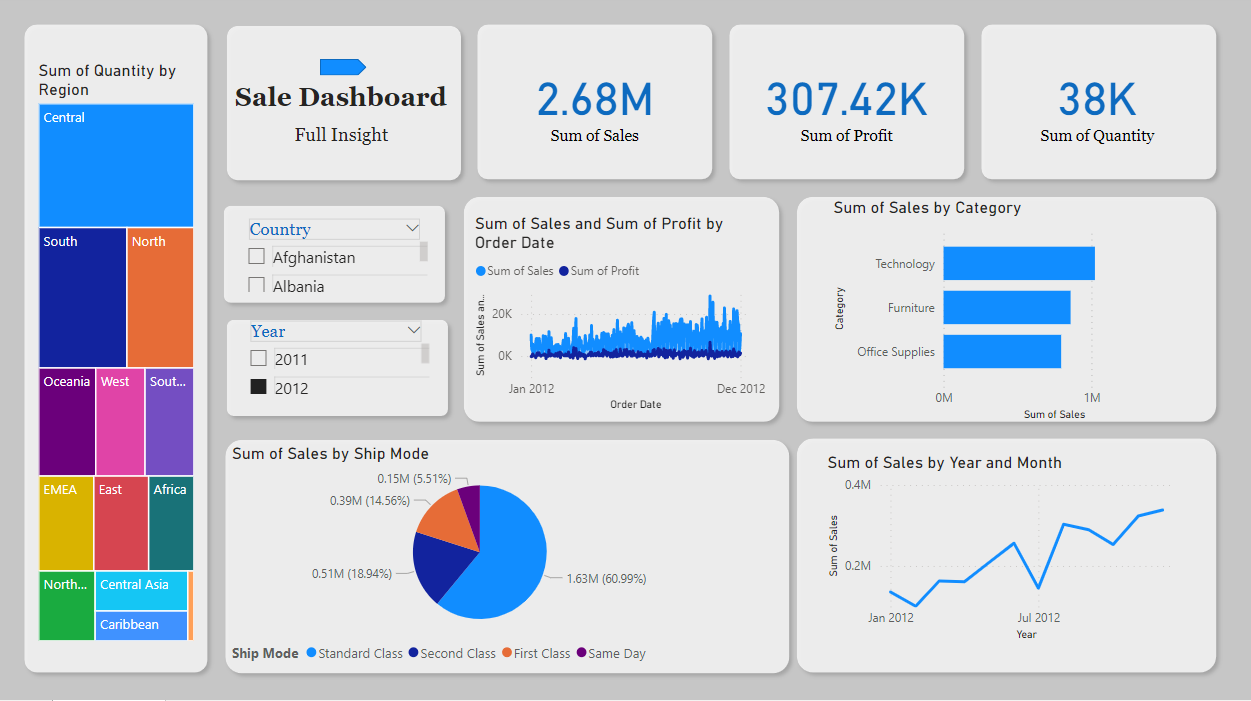

The page's visual inventory and layout, read from the dashboard file:
{"tool":"powerbi","page":{"name":"Page 1","canvas":[1280,720],"ordinal":0},"visuals":[{"type":"shape","box":[16.8,22.9,204.8,678.7],"z":0},{"type":"shape","box":[222.6,24.5,256.6,175.5],"z":1000},{"type":"shape","box":[478.1,22.7,257,175.7],"z":2000},{"type":"shape","box":[735.1,22.7,257,175.7],"z":3000},{"type":"shape","box":[992.1,22.7,257,175.7],"z":4000},{"type":"shape","box":[220.8,207.5,243.4,117],"z":5000},{"type":"shape","box":[464.2,198.1,339.6,247.2],"z":6000},{"type":"shape","box":[221.4,445.7,592.9,255.7],"z":7000},{"type":"shape","box":[803.8,198.1,445.3,247.2],"z":8000},{"type":"shape","box":[803.8,445.3,445.3,256.6],"z":9000},{"type":"textbox","box":[232.4,85,232.4,73.7],"z":10000},{"type":"textbox","box":[262.7,128.5,172,58.6],"z":11000},{"type":"card","fields":{"Values":["Sum(Orders.Sales)"]},"box":[490.7,50.4,232.4,122.3],"z":12000},{"type":"barChart","fields":{"Category":["Orders.Category"],"Y":["Sum(Orders.Sales)"]},"box":[845.3,207.5,362.3,232.1],"z":13000},{"type":"treemap","fields":{"Group":["Orders.Region"],"Values":["Sum(Orders.Quantity)"]},"box":[35.2,68.8,168.2,596.2],"z":14000},{"type":"card","fields":{"Values":["Sum(Orders.Quantity)"]},"box":[1013.5,50.4,211,122.3],"z":15000},{"type":"card","fields":{"Values":["Sum(Orders.Profit)"]},"box":[747.5,50.4,232.4,122.3],"z":16000},{"type":"pieChart","fields":{"Y":["Sum(Orders.Sales)"],"Category":["Orders.Ship Mode"]},"box":[232.4,458.6,515.2,232.4],"z":17000},{"type":"lineChart","fields":{"Y":["Sum(Orders.Sales)"],"Category":["Date.Date.Variation.Date Hierarchy.Year","Date.Date.Variation.Date Hierarchy.Month"]},"box":[839.6,467.9,373.6,196.2],"z":18000},{"type":"slicer","fields":{"Values":["Orders.Country"]},"box":[241.5,224.5,200,84.9],"z":19000},{"type":"shape","box":[326.4,67.9,47.2,17],"z":20000},{"type":"areaChart","fields":{"Y":["Sum(Orders.Sales)","Sum(Orders.Profit)"],"Category":["Orders.Order Date"]},"box":[479.2,224.5,305.7,205.7],"z":21000},{"type":"shape","box":[223.2,324.1,243.1,116.2],"z":22000},{"type":"slicer","fields":{"Values":["Date.Year"]},"box":[243.4,328.3,200,84.9],"z":23000}]}

Visuals, with their boxes in screenshot pixels (x1, y1, x2, y2), scaled from the page's 1280x720 canvas onto the 1251x701 screenshot:
shape: [16,22,217,683]
shape: [218,24,468,195]
shape: [467,22,718,193]
shape: [718,22,970,193]
shape: [970,22,1221,193]
shape: [216,202,454,316]
shape: [454,193,786,434]
shape: [216,434,796,683]
shape: [786,193,1221,434]
shape: [786,434,1221,683]
textbox: [227,83,454,155]
textbox: [257,125,425,182]
card - Sum(Orders.Sales): [480,49,707,168]
barChart - Orders.Category x Sum(Orders.Sales): [826,202,1180,428]
treemap - Orders.Region x Sum(Orders.Quantity): [34,67,199,647]
card - Sum(Orders.Quantity): [991,49,1197,168]
card - Sum(Orders.Profit): [731,49,958,168]
pieChart - Sum(Orders.Sales) x Orders.Ship Mode: [227,446,731,673]
lineChart - Sum(Orders.Sales) x Date.Date.Variation.Date Hierarchy.Year: [821,456,1186,647]
slicer - Orders.Country: [236,219,431,301]
shape: [319,66,365,83]
areaChart - Sum(Orders.Sales) x Sum(Orders.Profit): [468,219,767,419]
shape: [218,316,456,429]
slicer - Date.Year: [238,320,433,402]
